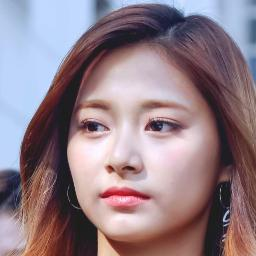face: (70, 64, 210, 242)
